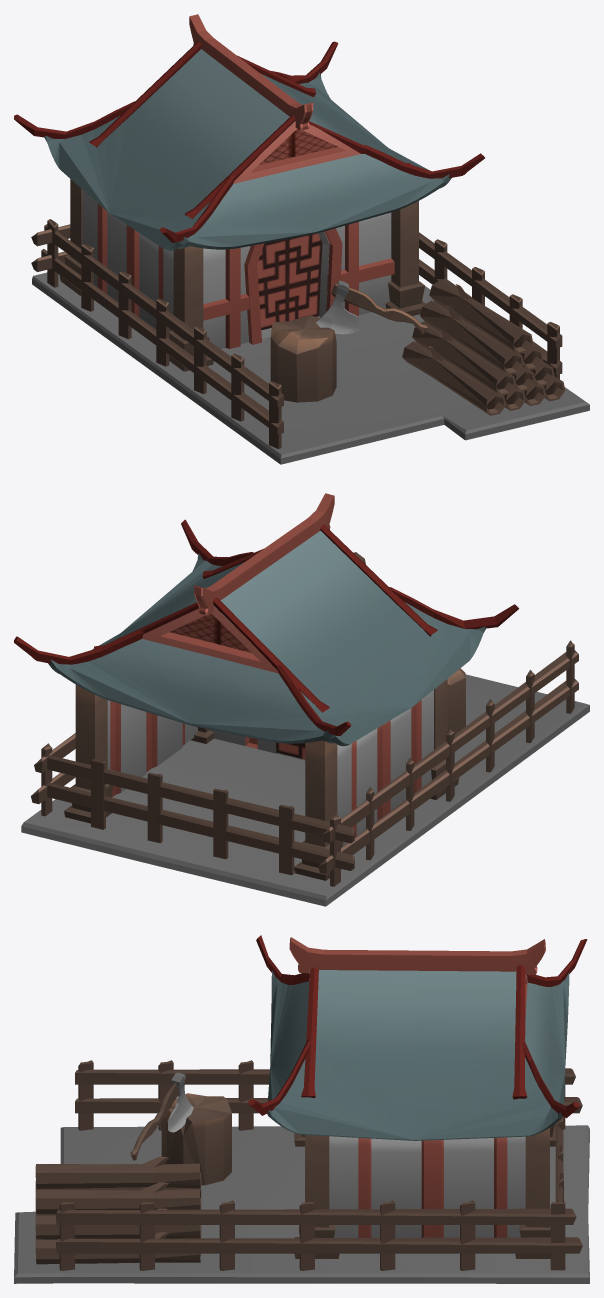
File: Sawmill_2lvl.fbx
The picture shows the model from 3 angles, top to bottom: view 1: azimuth 30°, elevation 25°; view 2: azimuth 150°, elevation 25°; view 3: azimuth 270°, elevation 25°; orthographic projection. The views are drawn at different scales.
Parts seen in each view (by area): view 1: Sawmill_2lvl; view 2: Sawmill_2lvl; view 3: Sawmill_2lvl.
Boxes of the visible parts, x1,y1,x2,y2 form: Sawmill_2lvl: (14,14,589,464); Sawmill_2lvl: (14,493,589,906); Sawmill_2lvl: (14,935,589,1283).
Size of the model in its own units: 4.51 by 3.33 by 6.47.
1 material, 1 textured.
